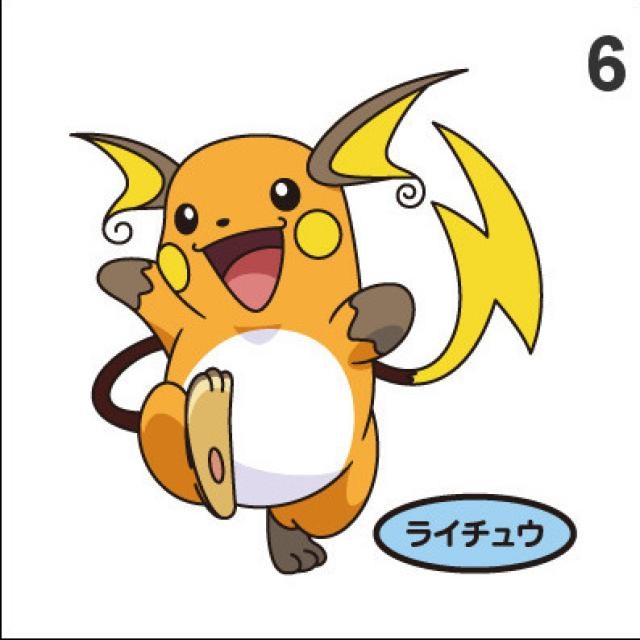Raichu: (63, 120, 395, 578)
